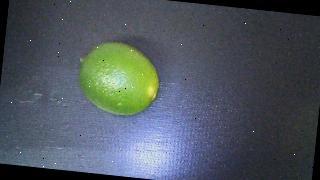EXPORTACION: (74, 39, 162, 119)
